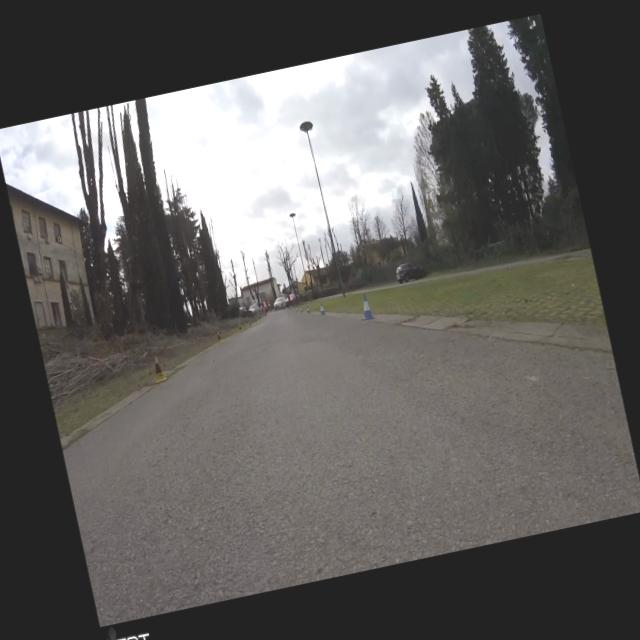blue_cone: (356, 292, 374, 321), (318, 302, 326, 315), (306, 305, 310, 313), (298, 306, 302, 312)
yellow_cone: (149, 354, 168, 383), (216, 331, 223, 344), (238, 324, 242, 332)
